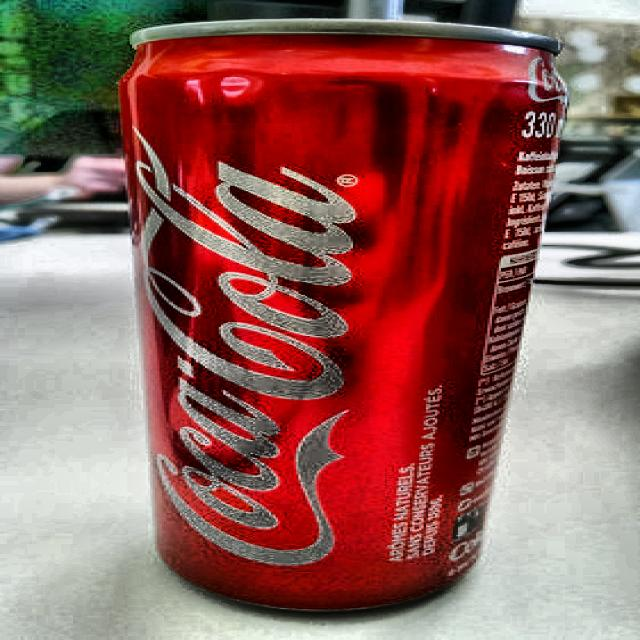Cans: (114, 22, 570, 624)
